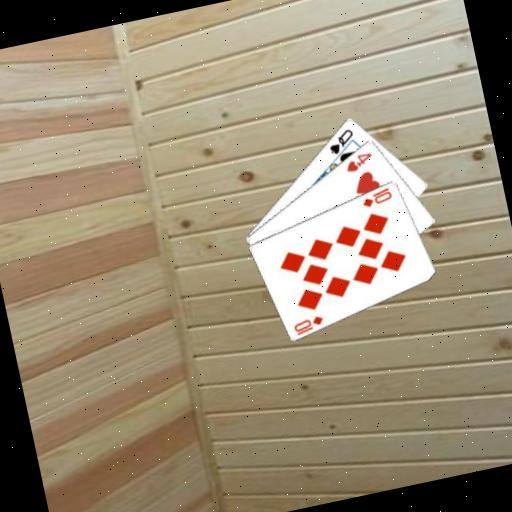10D: (289, 311, 327, 337), (357, 183, 394, 209)
4H: (340, 148, 376, 174)
QS: (323, 125, 358, 157)
